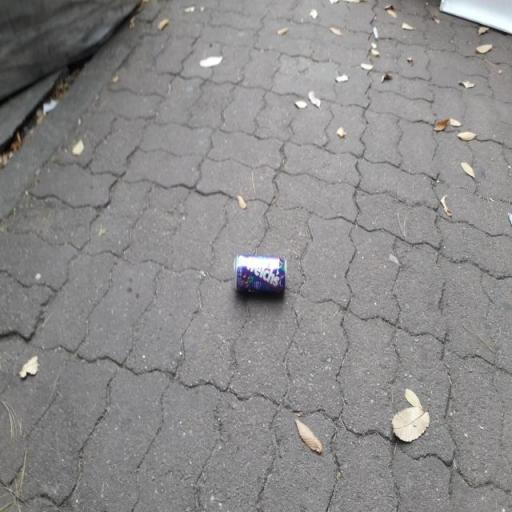metal: (229, 246, 291, 308)
